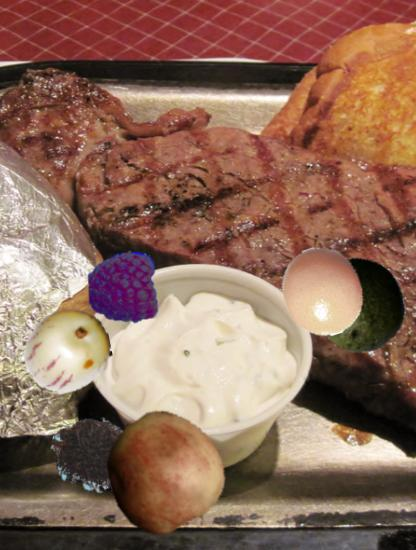Apple: (103, 412, 226, 535)
Avocado: (313, 259, 409, 355)
Grapefruit: (277, 247, 367, 337)
Pepino: (24, 308, 111, 395)
Rambutan: (49, 413, 134, 498)
Raspberry: (86, 251, 160, 325)
